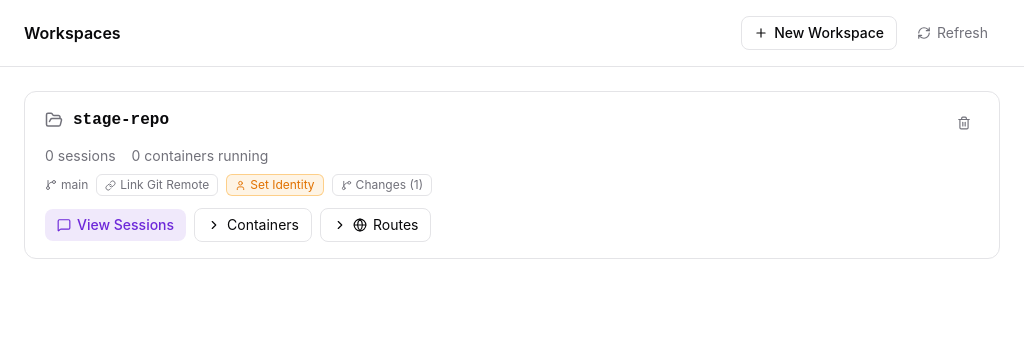
Dashboard — Git staging UI › commit button is disabled when no commit message
Click the button with test id "changes-toggle" at [382, 185], box left=332, top=174, right=432, bottom=196
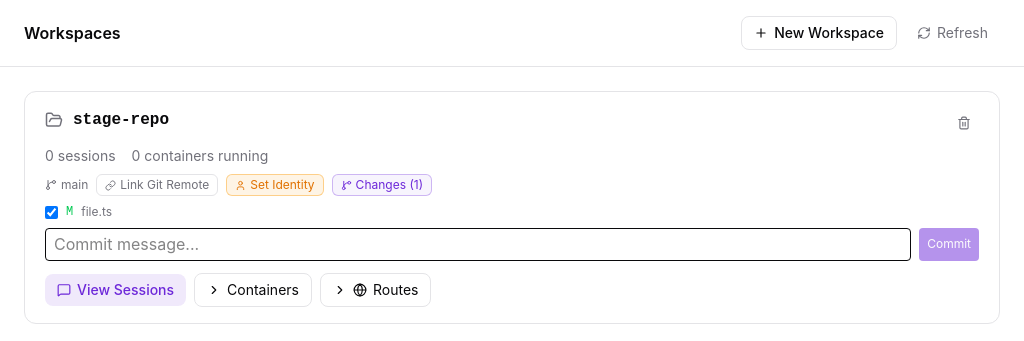
expect the button "Commit" is disabled: met, box left=919, top=228, right=979, bottom=261
